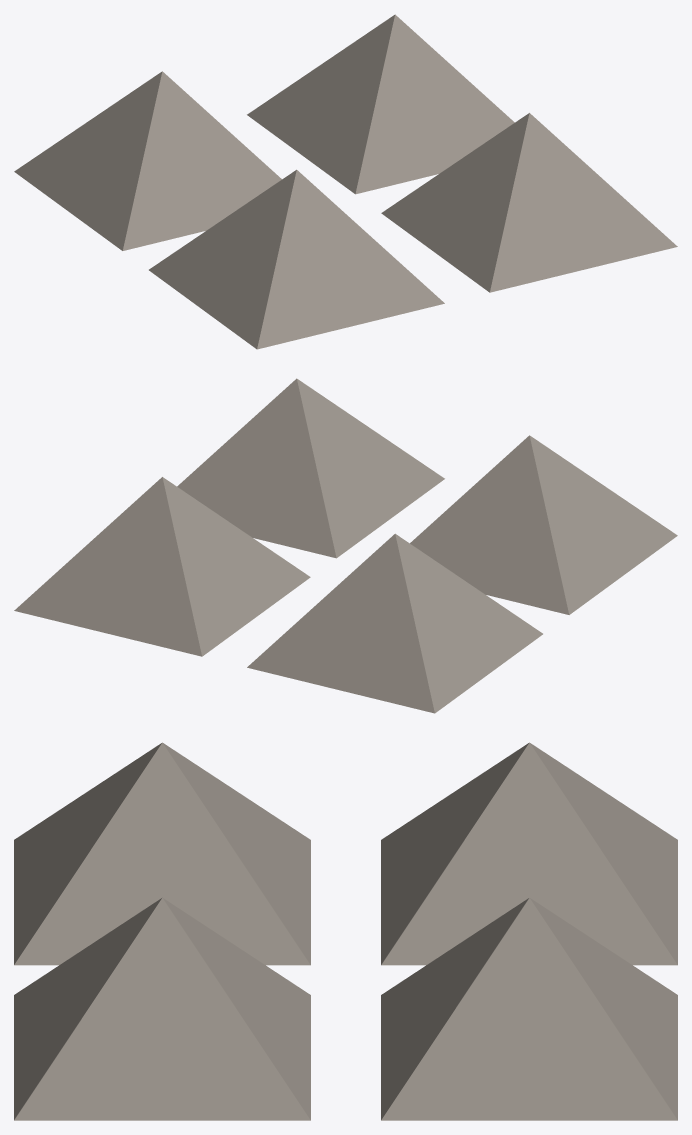
The model's file is m_dec_dung_trapSpikes_spikes.fbx.
3 renders of one model, top to bottom at view 1: azimuth 30°, elevation 25°; view 2: azimuth 150°, elevation 25°; view 3: azimuth 270°, elevation 25°, orthographic. The views are drawn at different scales.
Parts seen in each view (by area): view 1: m_dec_dung_trapSpikes_spikes; view 2: m_dec_dung_trapSpikes_spikes; view 3: m_dec_dung_trapSpikes_spikes.
Part boxes in pixels (<box>): m_dec_dung_trapSpikes_spikes: <box>14,14,677,349</box>; m_dec_dung_trapSpikes_spikes: <box>14,378,677,713</box>; m_dec_dung_trapSpikes_spikes: <box>14,742,677,1120</box>.
Bounding box in the file's own units: 1.63 × 0.4333 × 1.63.
